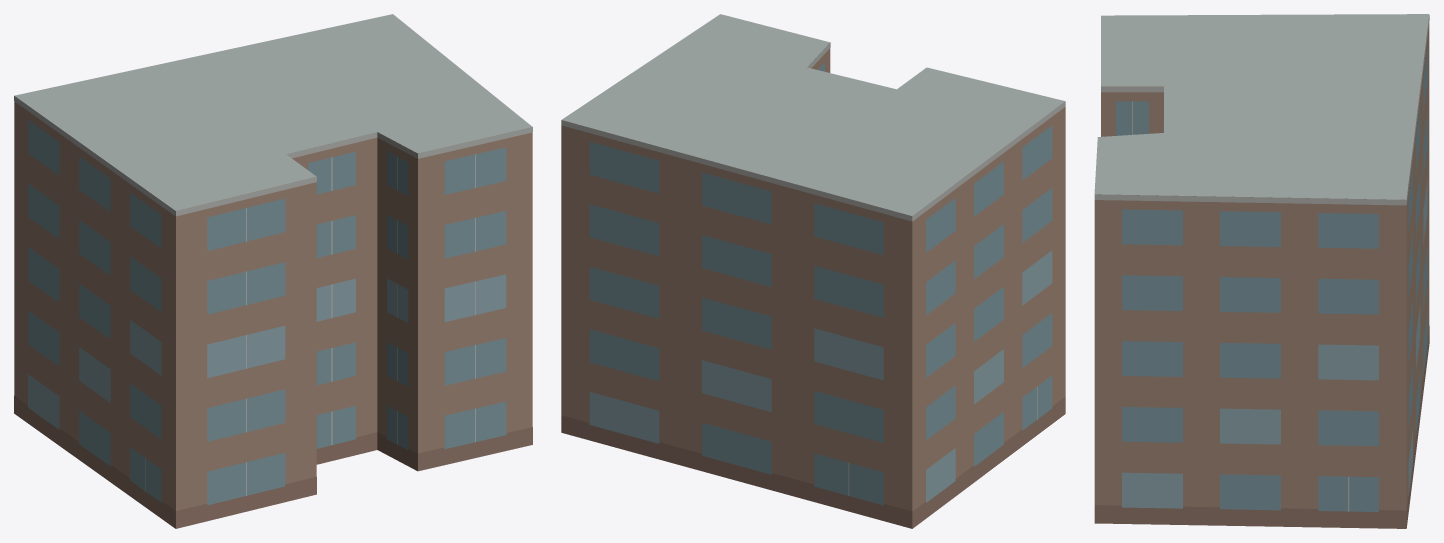
File: survey-upis-32819416.glb
3 views of the same model, side by side, from view 1: azimuth 30°, elevation 25°; view 2: azimuth 150°, elevation 25°; view 3: azimuth 270°, elevation 25° (orthographic). The views are drawn at different scales.
Parts seen in each view (by area): view 1: survey-upis-32819416.tmp; view 2: survey-upis-32819416.tmp; view 3: survey-upis-32819416.tmp.
Boxes of the visible parts, bbox=[...] form: survey-upis-32819416.tmp: bbox=[14, 14, 532, 528]; survey-upis-32819416.tmp: bbox=[561, 14, 1065, 528]; survey-upis-32819416.tmp: bbox=[1094, 14, 1429, 528].
Bounding box in the file's own units: 17.2 × 14.2 × 13.11.
